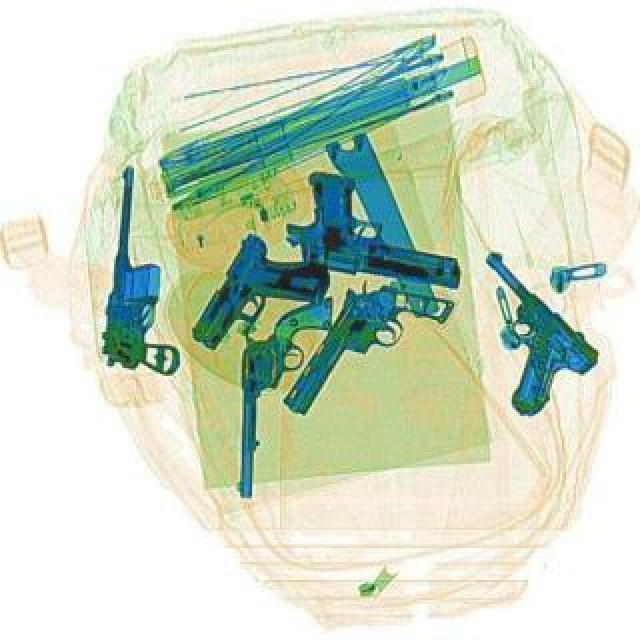gun: (274, 254, 456, 446), (418, 244, 606, 420), (182, 226, 340, 380), (278, 166, 470, 286), (236, 290, 332, 500), (96, 164, 192, 372)
